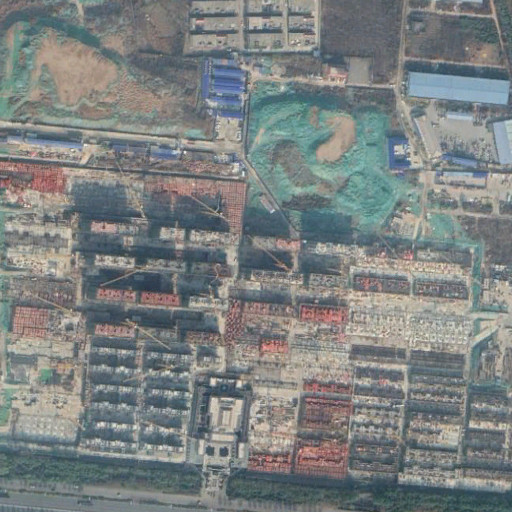cw: (244, 79, 481, 247), (4, 3, 217, 140)
